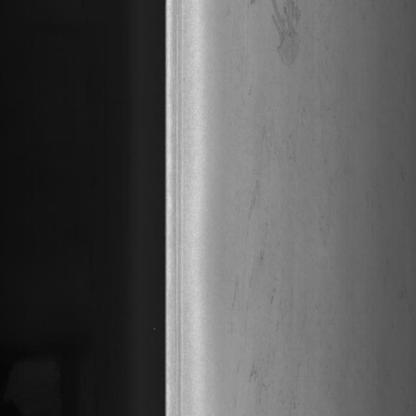water_spot: (259, 0, 313, 73)
